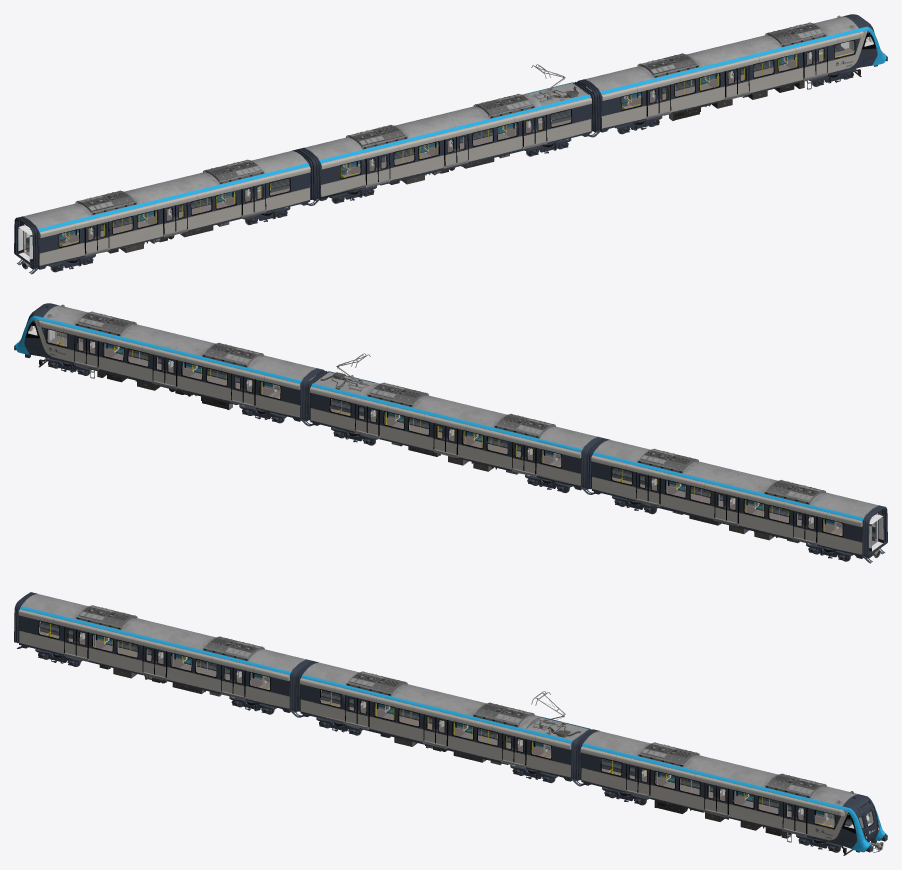
Rendered from sydney_metro_driverless_train__alstom_metropolis.glb.
3 renders of one model, top to bottom at view 1: azimuth 30°, elevation 25°; view 2: azimuth 150°, elevation 25°; view 3: azimuth 330°, elevation 25°, orthographic.
Parts seen in each view (by area): view 1: exterior, exterior_trailer_lod0, exterior.001, interior.002, interior, interior.001; view 2: exterior, exterior_trailer_lod0, exterior.001, interior.002, interior, interior.001; view 3: exterior, exterior_trailer_lod0, exterior.001, interior, interior.002, interior.001.
Boxes of the visible parts, x1,y1,x2,y2 form: exterior: [578, 14, 887, 136]; exterior_trailer_lod0: [14, 149, 315, 274]; exterior.001: [299, 81, 596, 205]; interior.002: [18, 178, 289, 262]; interior: [586, 36, 873, 109]; interior.001: [340, 109, 571, 178]; exterior: [14, 303, 323, 425]; exterior_trailer_lod0: [586, 438, 887, 563]; exterior.001: [305, 370, 602, 494]; interior.002: [612, 467, 883, 551]; interior: [28, 325, 315, 398]; interior.001: [330, 398, 561, 467]; exterior: [576, 729, 887, 852]; exterior_trailer_lod0: [14, 592, 311, 717]; exterior.001: [295, 660, 591, 785]; interior: [601, 758, 874, 828]; interior.002: [39, 621, 269, 689]; interior.001: [320, 690, 551, 758].
Size of the model in its own units: 66.86 by 5.95 by 3.05.
8 materials, 7 textured.
